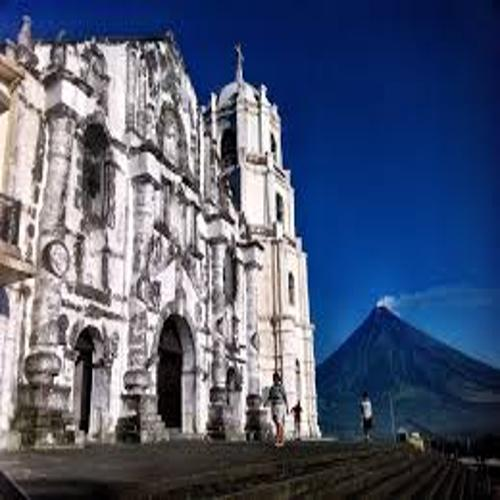Daraga Church: (2, 13, 325, 443)
